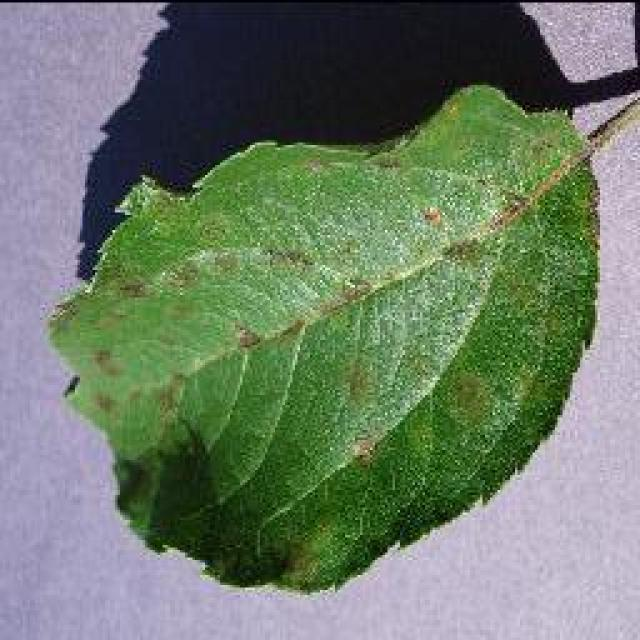apple scab disease: (45, 80, 603, 595)
